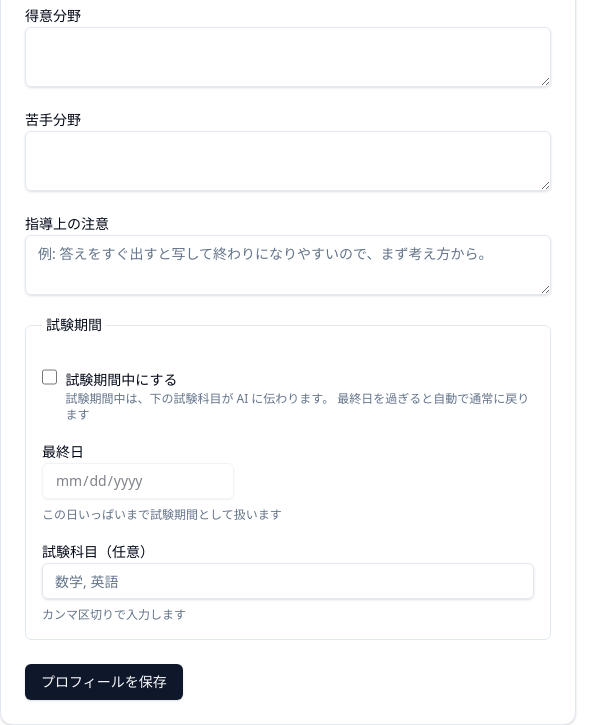
Test: StudentProfileForm（H-9: 二重送信） › 保存後に編集を再開したら再び保存できる（このページに留まるため）
(page scrolled)
Click the button "プロフィールを保存": (104, 682) x1=25 y1=664 x2=183 y2=700
(page scrolled)
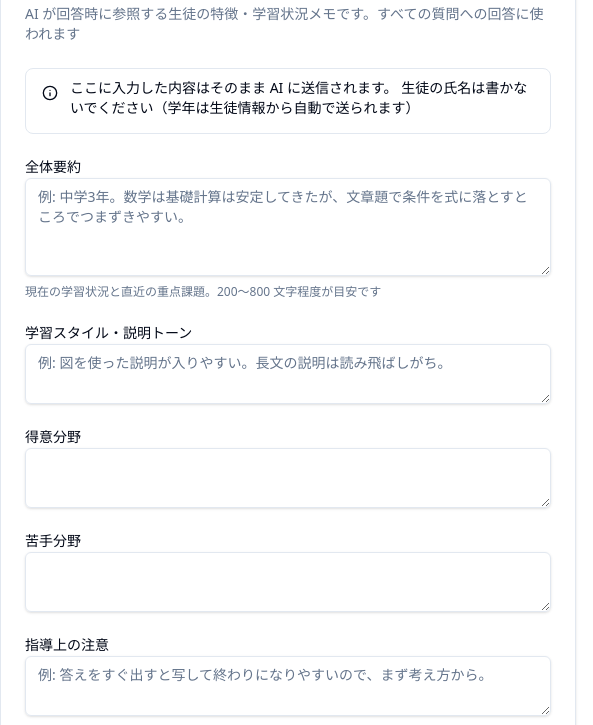
In the text box labelled "全体要約": (288, 227) x1=25 y1=178 x2=551 y2=276, type "追記"
(page scrolled)
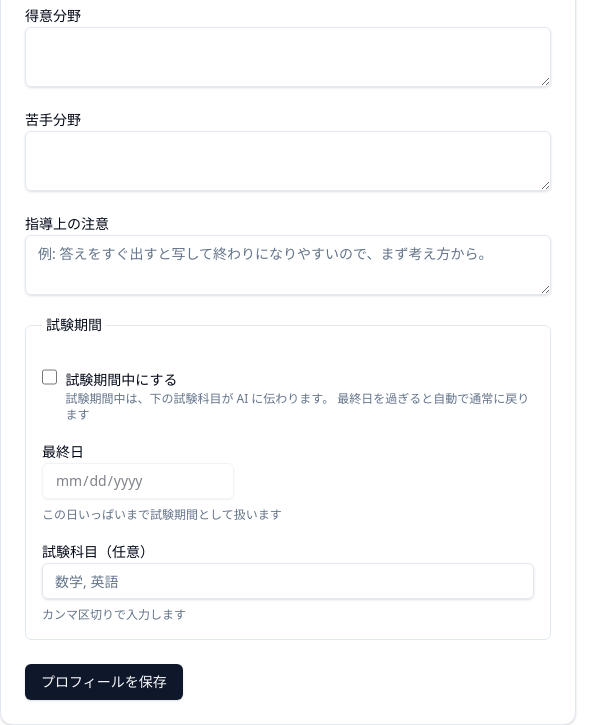
Now the button "プロフィールを保存" is enabled, box x1=25 y1=664 x2=183 y2=700
